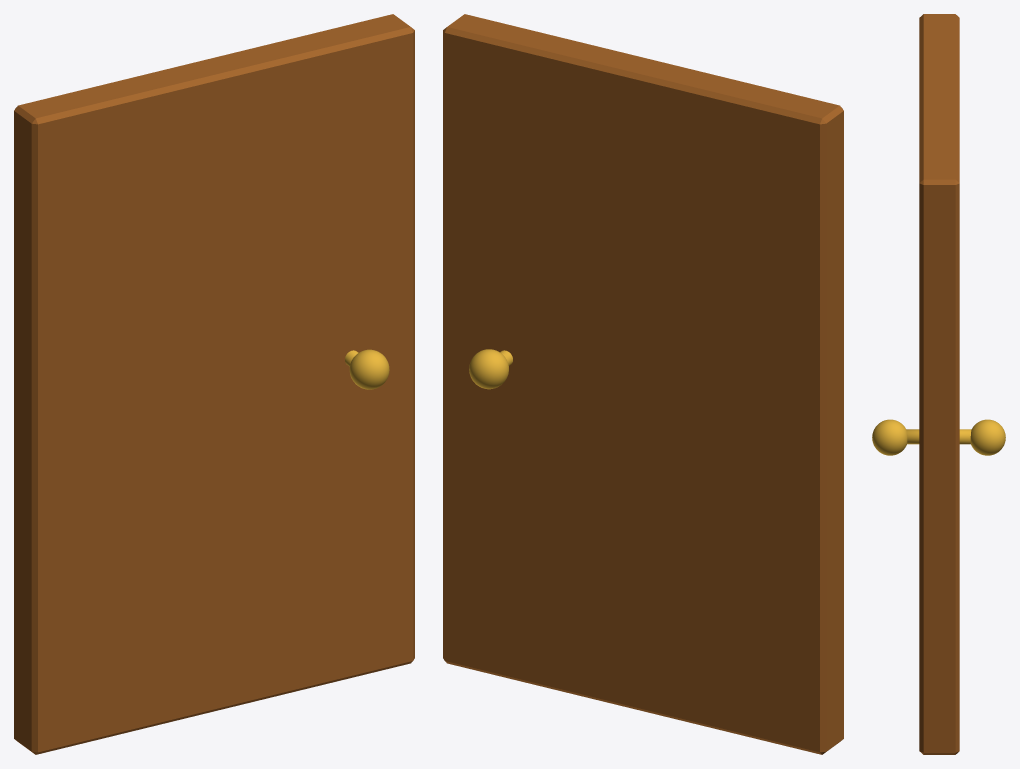
The model's file is basicDoor.fbx.
The picture shows the model from 3 angles, left to right: view 1: azimuth 30°, elevation 25°; view 2: azimuth 150°, elevation 25°; view 3: azimuth 270°, elevation 25°; orthographic projection. The views are drawn at different scales.
Visible parts, largest first — view 1: Cube; view 2: Cube; view 3: Cube.
Part boxes in pixels (bbox=[...]): Cube: bbox=[14, 14, 414, 754]; Cube: bbox=[443, 14, 843, 754]; Cube: bbox=[872, 14, 1005, 754].
Size of the model in its own units: 561 by 891 by 188.
